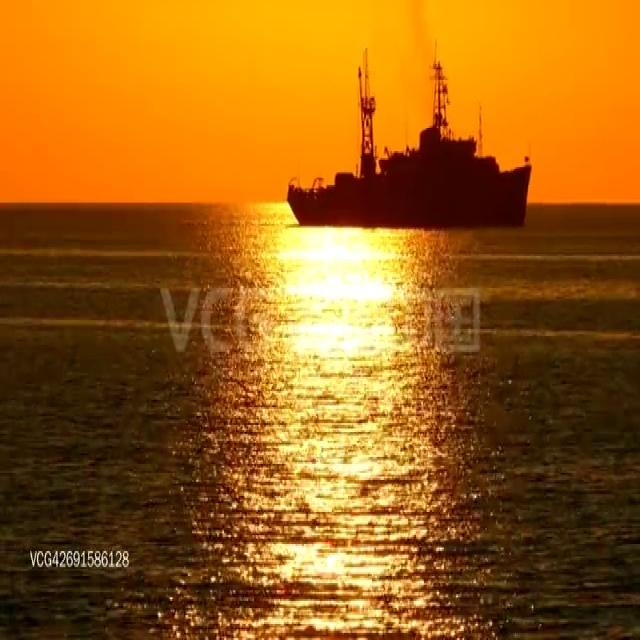navalvessels: (281, 52, 533, 231)
